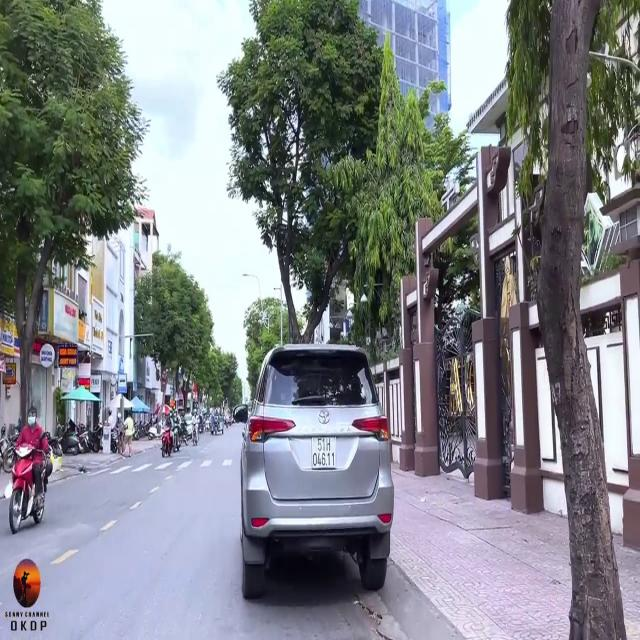bien_trang: (312, 434, 337, 466)
